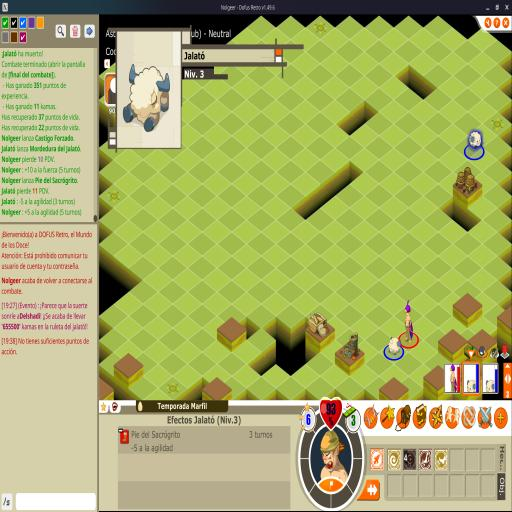Enemigos: (468, 130, 483, 150), (388, 336, 402, 356)
Personaje: (403, 300, 414, 343)
